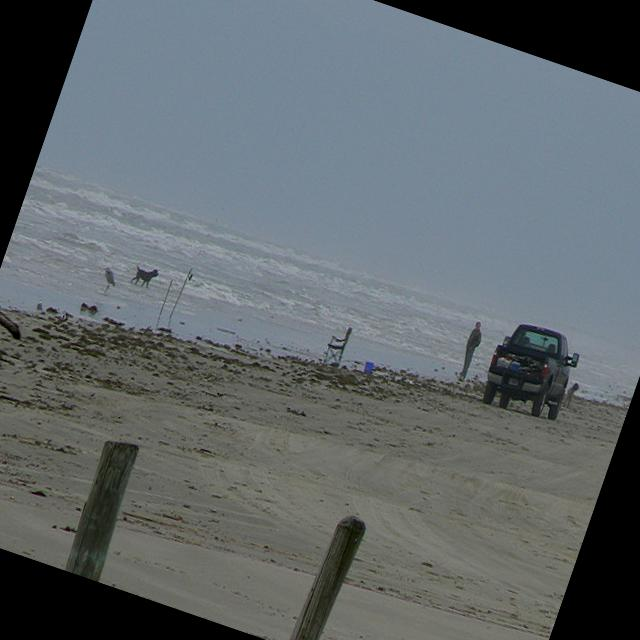Vehicle: (478, 315, 585, 427)
